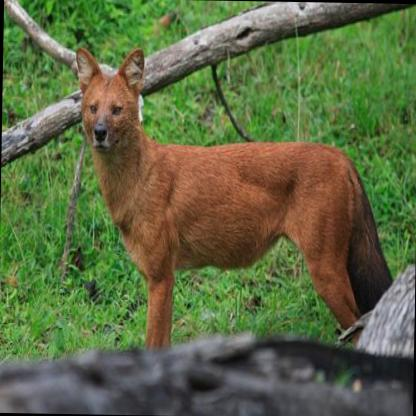dhole: (68, 42, 394, 350)
